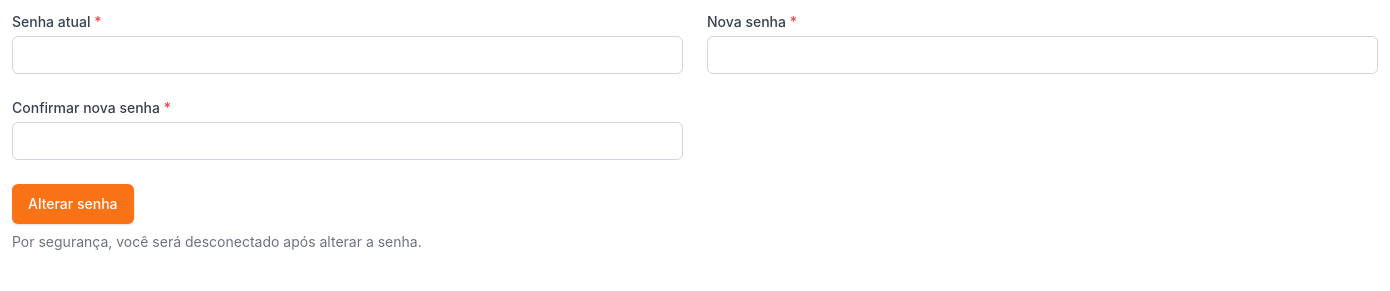
Test: PasswordForm › deve exibir erro quando senhas não coincidem
The image size is (1390, 291).
Type "senha123" into the password field with id "senha_atual".
click(348, 55); type("senha123")  # box [12,36,683,74]
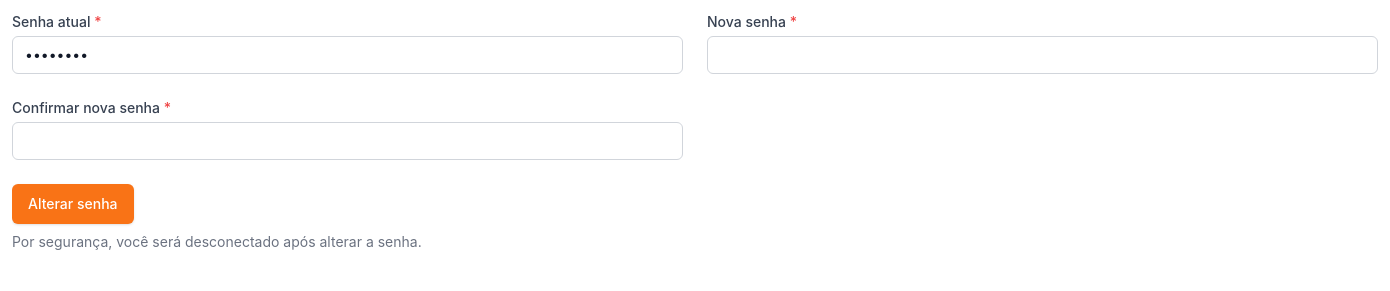
Type "novaSenha456" into the password field with id "nova_senha".
click(1042, 55); type("novaSenha456")  # box [707,36,1378,74]
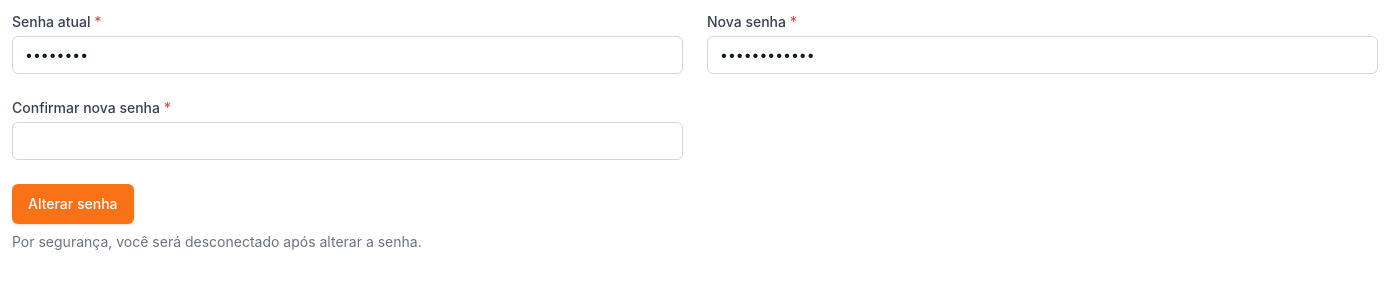
Type "diferente" into the password field with id "confirmar_senha".
click(348, 141); type("diferente")  # box [12,122,683,160]
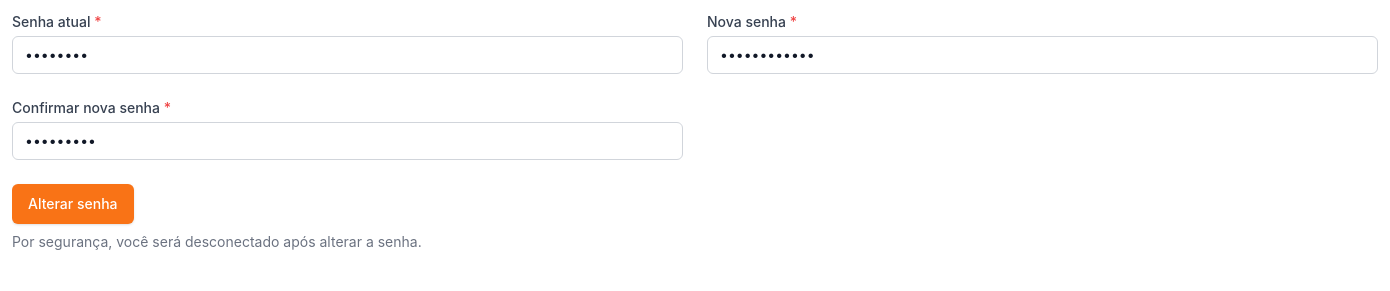
Submit the form "Alterar senha"
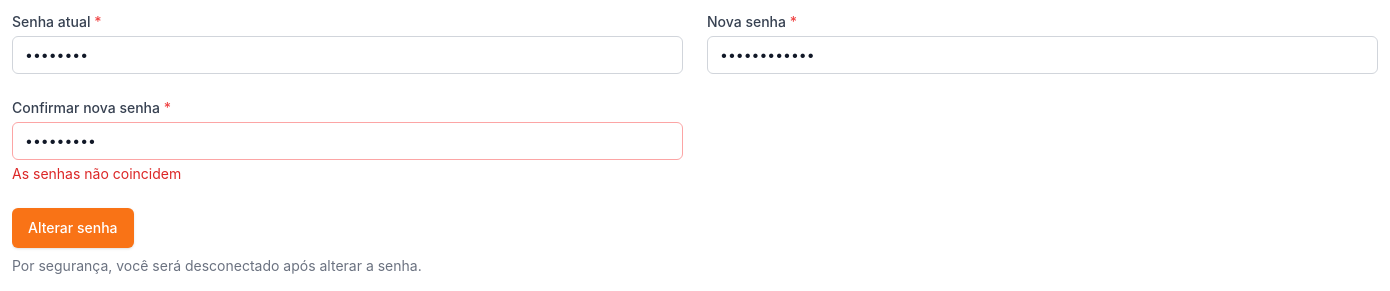
Check: the text "As senhas não coincidem" is shown, box [12,165,181,182]
